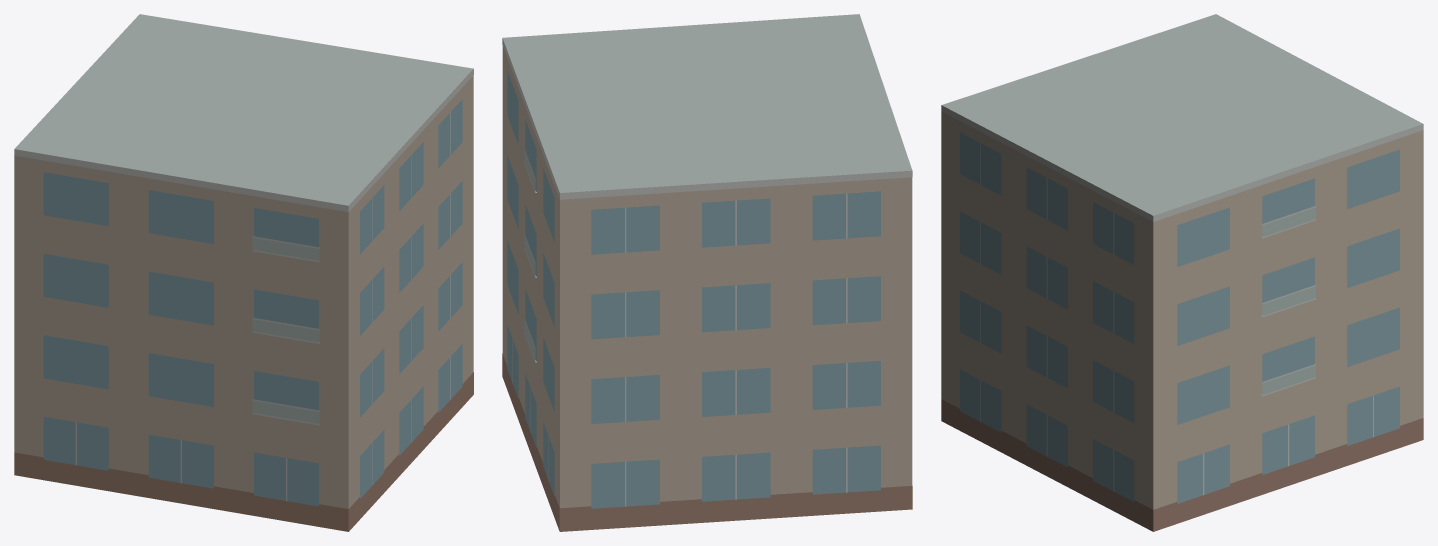
The model's file is survey-upis-32780490.glb.
3 views of the same model, side by side, from view 1: azimuth 30°, elevation 25°; view 2: azimuth 150°, elevation 25°; view 3: azimuth 270°, elevation 25° (orthographic). The views are drawn at different scales.
Visible parts, largest first — view 1: survey-upis-32780490.tmp; view 2: survey-upis-32780490.tmp; view 3: survey-upis-32780490.tmp.
Boxes of the visible parts, x1,y1,x2,y2 form: survey-upis-32780490.tmp: (14, 14, 473, 531); survey-upis-32780490.tmp: (502, 14, 912, 531); survey-upis-32780490.tmp: (941, 14, 1423, 531).
Bounding box in the file's own units: 17.03 × 12.42 × 17.18.
